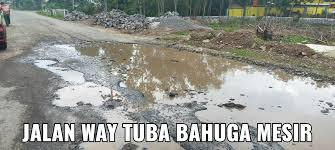Pothole: (76, 31, 335, 150), (21, 53, 121, 106)
